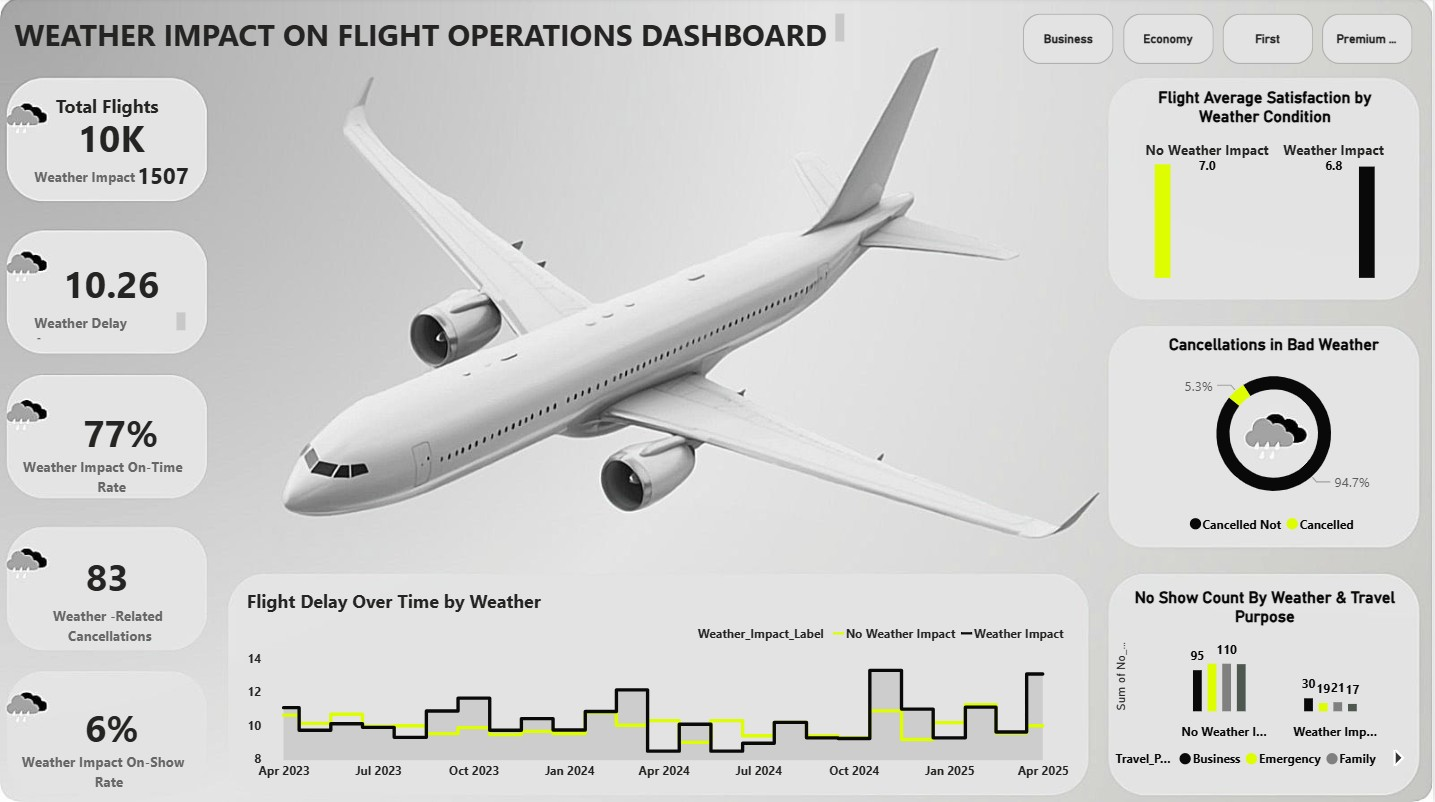

Layout of this report page (visuals, bound fields, positions):
{"tool":"powerbi","page":{"name":"Page 1","canvas":[1280,720],"ordinal":0},"visuals":[{"type":"textbox","box":[8.1,10.5,751.2,39.5],"z":0},{"type":"card","fields":{"Values":["Flights_Dataset.Total_Flights"]},"box":[21.2,50.6,156.6,150.8],"z":1000},{"type":"card","fields":{"Values":["Flights_Dataset.Total_Flights(Weather_Impact)"]},"box":[68.3,137.8,155.5,47.1],"z":2000},{"type":"card","fields":{"Values":["Flights_Dataset.Avg_Delay(Weather_Impact)"]},"box":[21.2,181.4,156.6,150.8],"z":3000},{"type":"card","fields":{"Values":["Flights_Dataset.On_time%(Weather_Impact)"]},"box":[15.3,319.2,184.9,140.2],"z":4000},{"type":"card","fields":{"Values":["Flights_Dataset.Total_Cancellation(Weather_Impact)"]},"box":[5.9,459.3,181.4,119],"z":5000},{"type":"card","fields":{"Values":["Flights_Dataset.No-Show_Rate%(Weather_Impact)"]},"box":[22.4,587.7,155.5,131.9],"z":6000},{"type":"lineChart","title":"Flight Delay Over Time by Weather","fields":{"Y":["Flights_Dataset.Avg_Delay_Flights"],"Category":["Flights_Dataset.Departure_Time.Variation.Date Hierarchy.Year","Flights_Dataset.Departure_Time.Variation.Date Hierarchy.Month"],"Series":["Flights_Dataset.Weather_Impact_Label"]},"box":[215.1,527.9,744.2,180.2],"z":6001},{"type":"clusteredColumnChart","title":"Flight Average Satisfaction by Weather Condition","fields":{"Category":["Flights_Dataset.Weather_Impact"],"Y":["Flights_Dataset.Average_Flight_Satisfaction_Score"],"Series":["Flights_Dataset.Weather_Impact_Label"]},"box":[1018.6,81.4,223.3,175.6],"z":6002},{"type":"donutChart","title":"Cancellations in Bad Weather","fields":{"Category":["Flights_Dataset.Cancellation_Label"],"Y":["CountNonNull(Flights_Dataset.Flight_ID)"]},"box":[1007,301.2,261.6,187.2],"z":6003},{"type":"clusteredColumnChart","title":"No Show Count By Weather & Travel Purpose","fields":{"Category":["Flights_Dataset.Weather_Impact_Label"],"Y":["Sum(Flights_Dataset.No_Show)"],"Series":["Flights_Dataset.Travel_Purpose"]},"box":[991.9,527.9,276.7,169.8],"z":6004},{"type":"advancedSlicerVisual","fields":{"Values":["Flights_Dataset.Seat_Class"]},"box":[909.3,10.5,359.3,55.8],"z":6005},{"type":"textbox","box":[8.2,81.3,175.5,33],"z":6006},{"type":"textbox","box":[25.9,146,110.7,35.3],"z":6007},{"type":"textbox","box":[25.9,276.8,144.9,34.2],"z":6008},{"type":"textbox","box":[15.3,405.2,168.4,66],"z":6009},{"type":"textbox","box":[25.9,538.2,144.9,49.5],"z":6010},{"type":"textbox","box":[8.2,669,179,50.6],"z":6011}]}

Visuals, with their boxes in screenshot pixels (x1, y1, x2, y2), scaled from the page's 1280x720 canvas onto the 1435x802 screenshot:
textbox: x1=9, y1=12, x2=851, y2=56
card - Flights_Dataset.Total_Flights: x1=24, y1=56, x2=199, y2=224
card - Flights_Dataset.Total_Flights(Weather_Impact): x1=77, y1=153, x2=251, y2=206
card - Flights_Dataset.Avg_Delay(Weather_Impact): x1=24, y1=202, x2=199, y2=370
card - Flights_Dataset.On_time%(Weather_Impact): x1=17, y1=356, x2=224, y2=512
card - Flights_Dataset.Total_Cancellation(Weather_Impact): x1=7, y1=512, x2=210, y2=644
card - Flights_Dataset.No-Show_Rate%(Weather_Impact): x1=25, y1=655, x2=199, y2=801
"Flight Delay Over Time by Weather" lineChart: x1=241, y1=588, x2=1075, y2=789
"Flight Average Satisfaction by Weather Condition" clusteredColumnChart: x1=1142, y1=91, x2=1392, y2=286
"Cancellations in Bad Weather" donutChart: x1=1129, y1=336, x2=1422, y2=544
"No Show Count By Weather & Travel Purpose" clusteredColumnChart: x1=1112, y1=588, x2=1422, y2=777
advancedSlicerVisual - Flights_Dataset.Seat_Class: x1=1019, y1=12, x2=1422, y2=74
textbox: x1=9, y1=91, x2=206, y2=127
textbox: x1=29, y1=163, x2=153, y2=202
textbox: x1=29, y1=308, x2=191, y2=346
textbox: x1=17, y1=451, x2=206, y2=525
textbox: x1=29, y1=599, x2=191, y2=655
textbox: x1=9, y1=745, x2=210, y2=801
